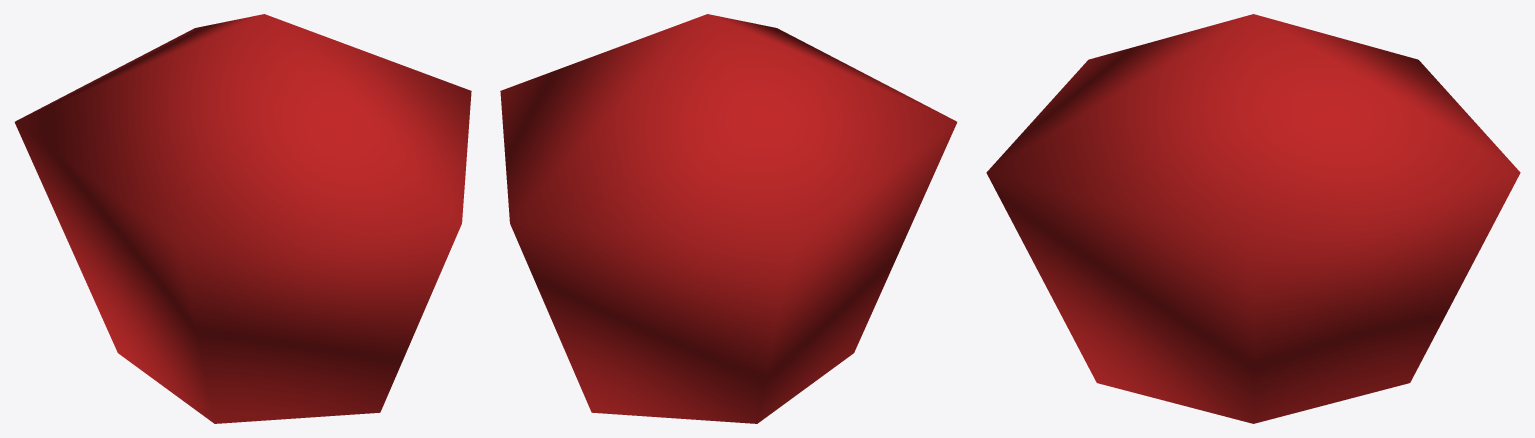
Rendered from original-87.obj.
3 renders of one model, left to right at view 1: azimuth 30°, elevation 25°; view 2: azimuth 150°, elevation 25°; view 3: azimuth 270°, elevation 25°, orthographic.
Parts seen in each view (by area): view 1: #ID274; view 2: #ID274; view 3: #ID274.
Part boxes in pixels (x1=…): #ID274: x1=14, y1=14, x2=471, y2=423; #ID274: x1=500, y1=14, x2=957, y2=423; #ID274: x1=986, y1=14, x2=1520, y2=423.
Bounding box in the file's own units: 0.00617 × 0.00552 × 0.00762.
